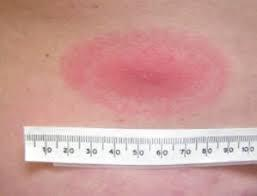Tick: (62, 29, 227, 120)
